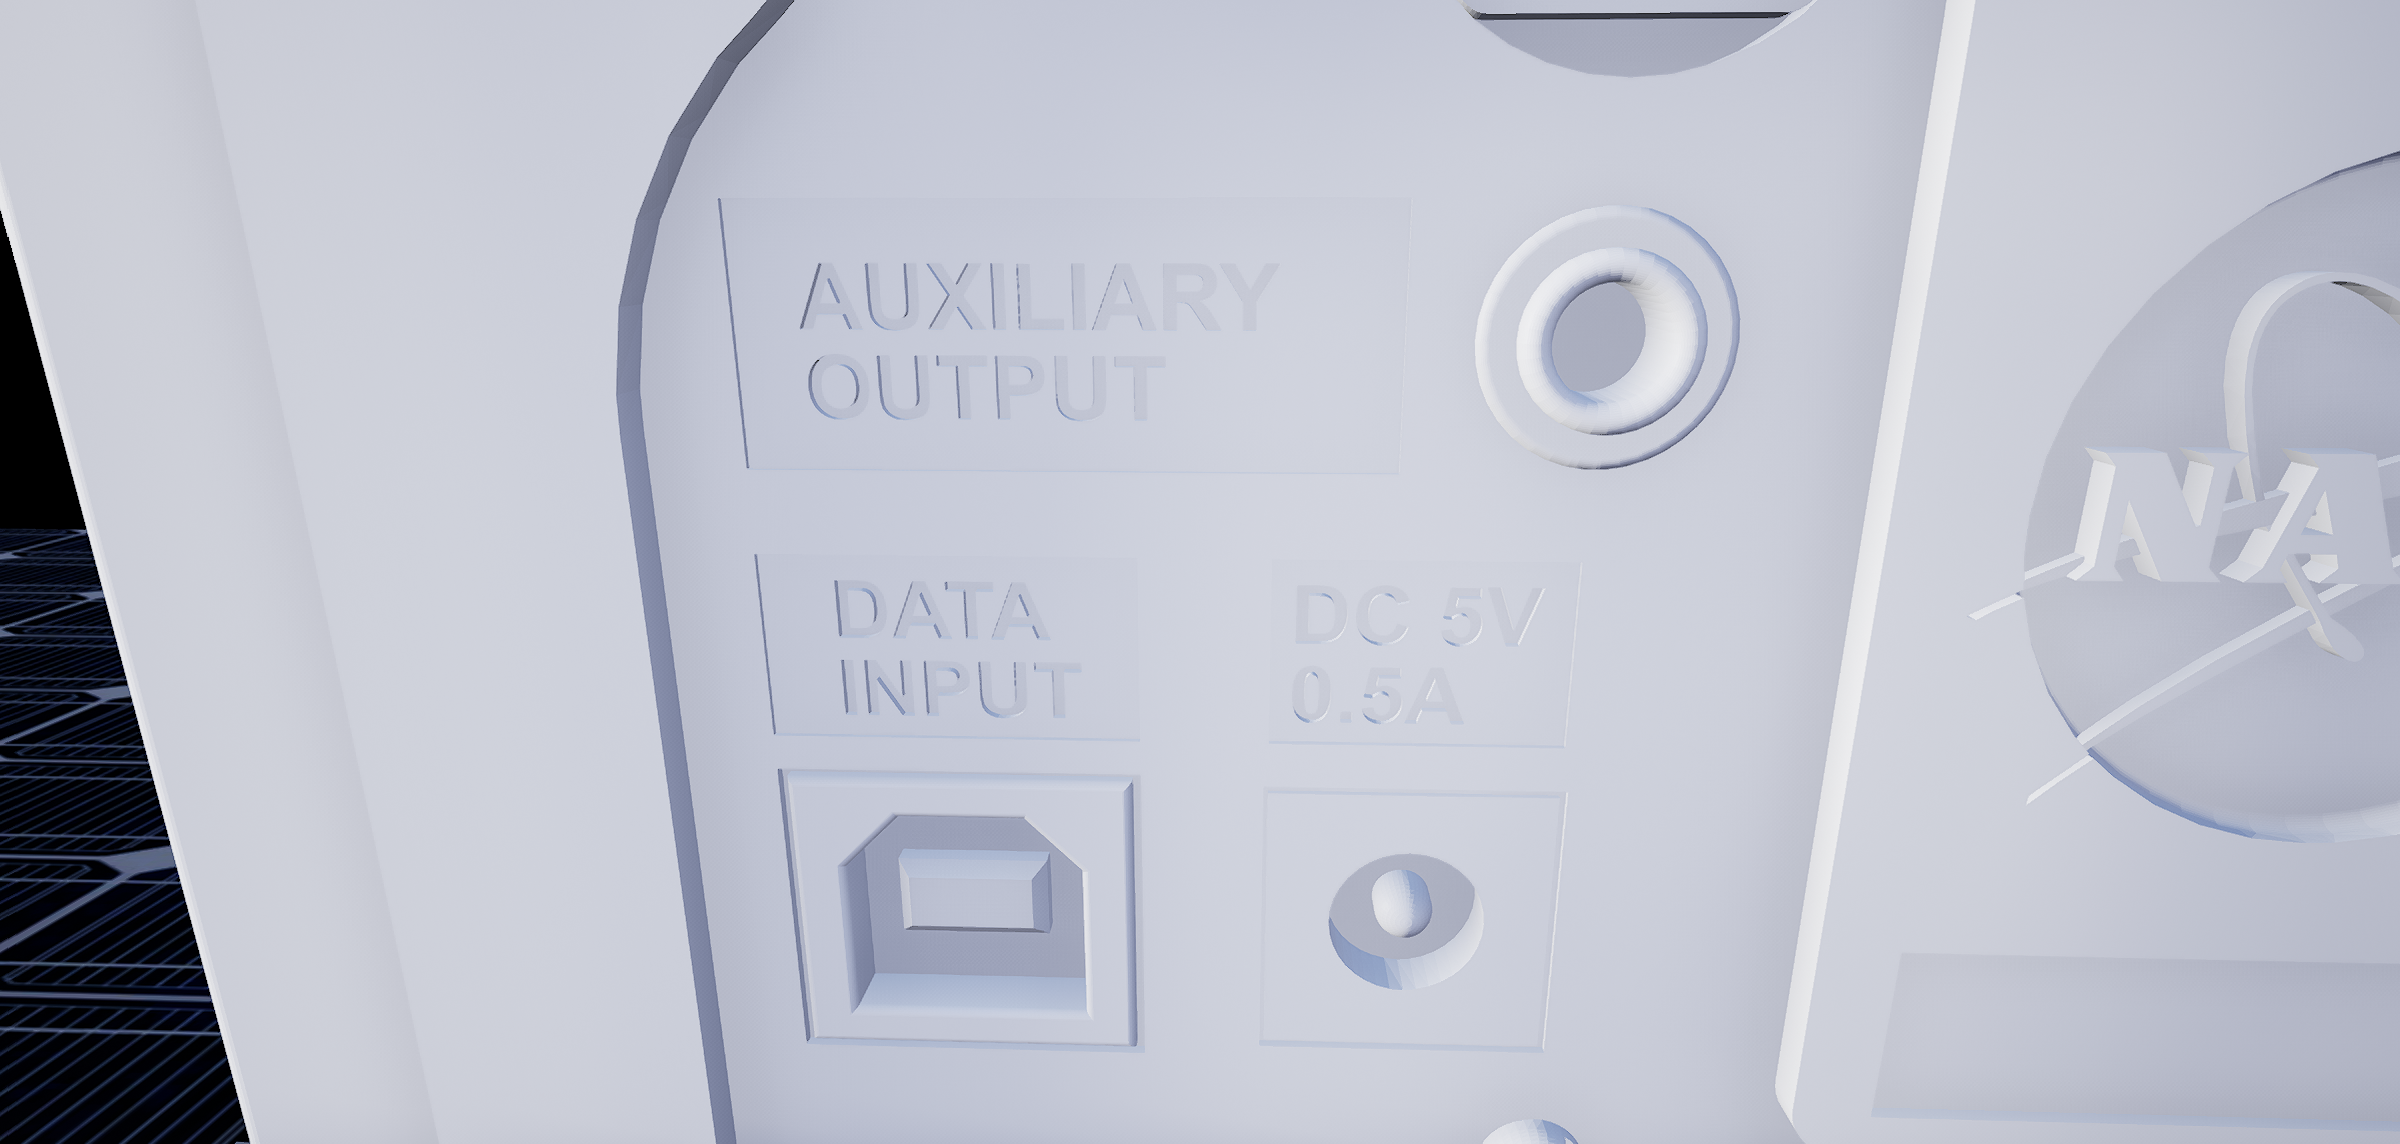aux: (1460, 187, 1757, 498)
dc: (1299, 845, 1512, 1021)
usb: (823, 806, 1110, 1041)
